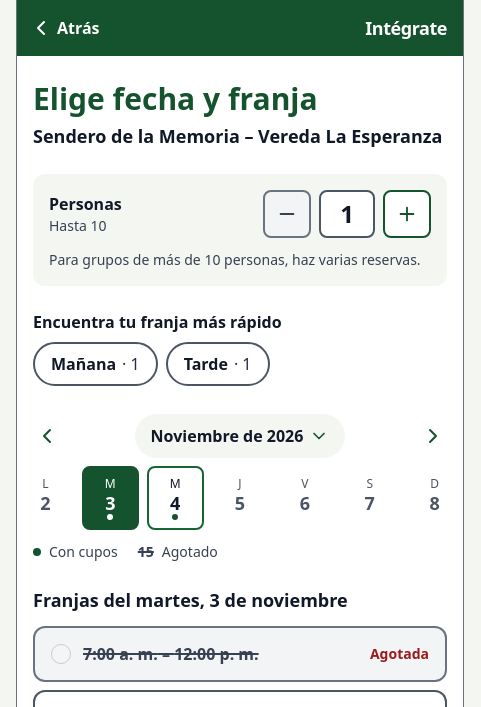
Test: selector de franjas (T-1.10b) › inhabilita las franjas agotadas con texto y calcula el total
The width and height of the screenshot is (481, 707).
expect the radio button labelled "7:00 a. m. – 12:00 p. m. Agotada" is disabled: met, box [51,644,71,664]
expect the label "7:00 a. m. – 12:00 p. m. Agotada" is shown: met, box [33,626,447,682]
Step 1. Click the button named "Agregar una persona" → (407, 214), box [383,190,431,238]
(page scrolled)
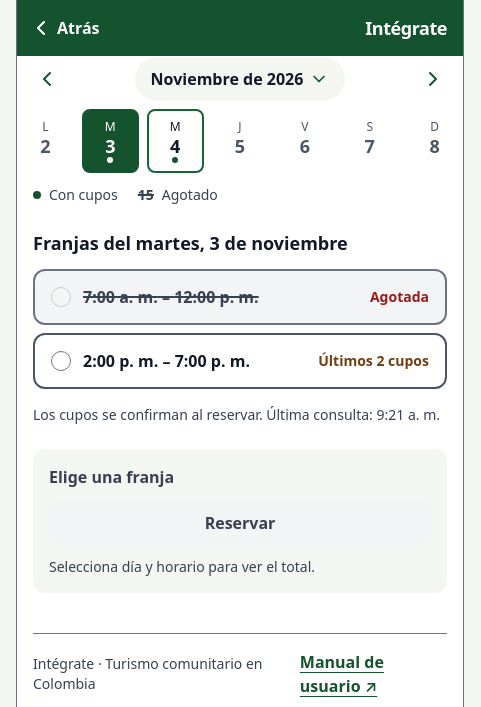
Step 2. Click the radio button labelled "2:00 p. m. – 7:00 p. m. Últimos 2 cupos" → (61, 360), box [51,350,71,370]
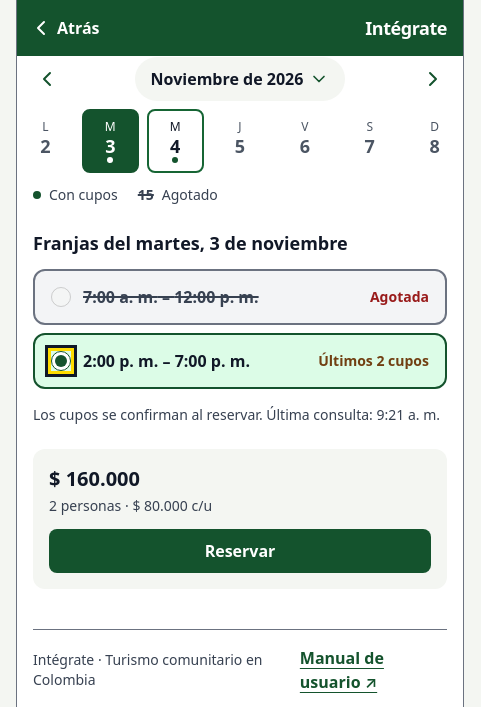
expect the radio button labelled "2:00 p. m. – 7:00 p. m. Últimos 2 cupos" is checked: met, box [51,350,71,370]
expect the text "$ 160.000" is shown: met, box [49,464,140,492]
